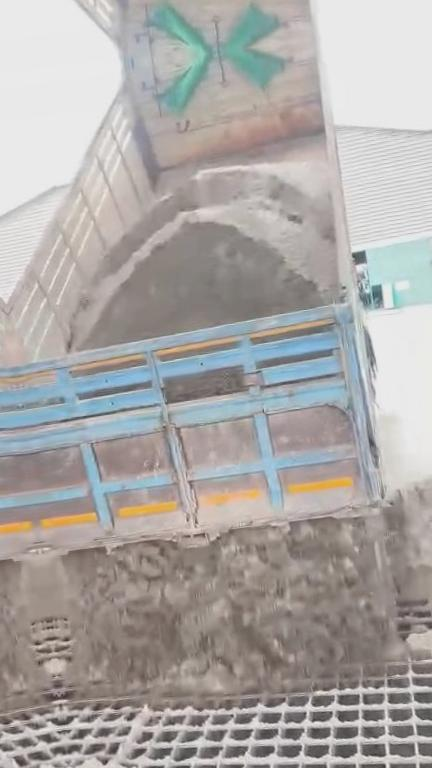sand: (42, 465, 432, 694), (72, 156, 340, 350), (173, 369, 238, 398)
